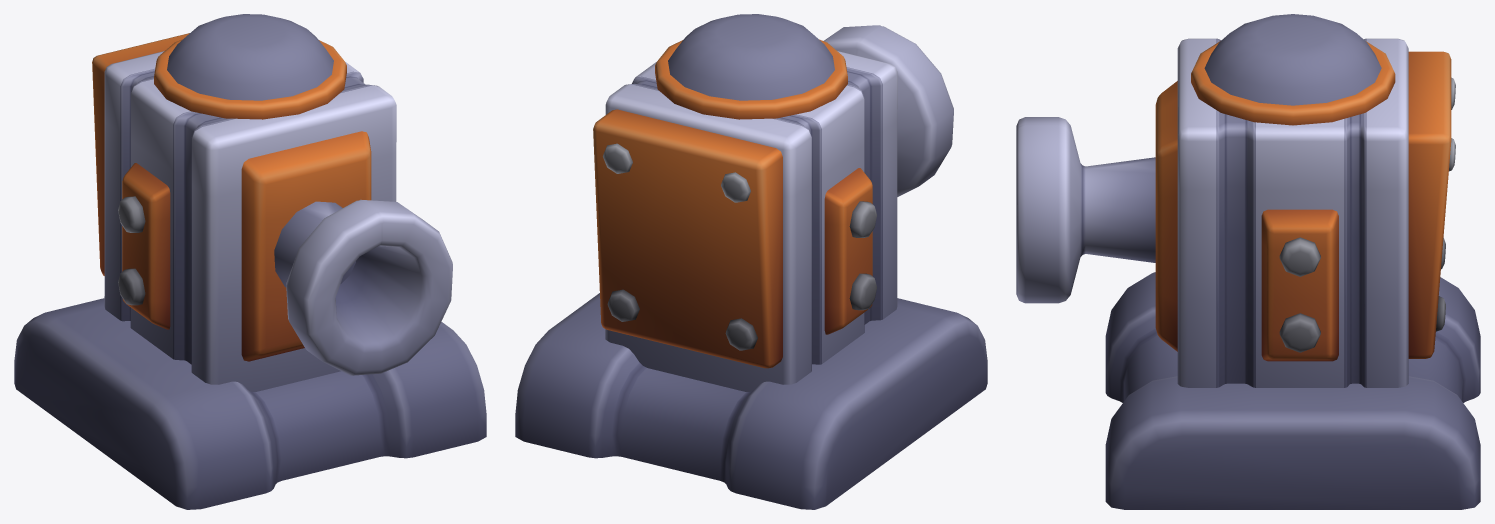
The model's file is Turret Placeholder.fbx.
The picture shows the model from 3 angles, left to right: view 1: azimuth 30°, elevation 25°; view 2: azimuth 150°, elevation 25°; view 3: azimuth 270°, elevation 25°; orthographic projection. The views are drawn at different scales.
Parts seen in each view (by area): view 1: Cube.006; view 2: Cube.006; view 3: Cube.006.
Boxes of the visible parts, left/top/right/bottom form: Cube.006: left=14, top=14, right=486, bottom=509; Cube.006: left=515, top=14, right=987, bottom=509; Cube.006: left=1016, top=14, right=1480, bottom=509.
Size of the model in its own units: 80.44 by 94.01 by 99.59.
